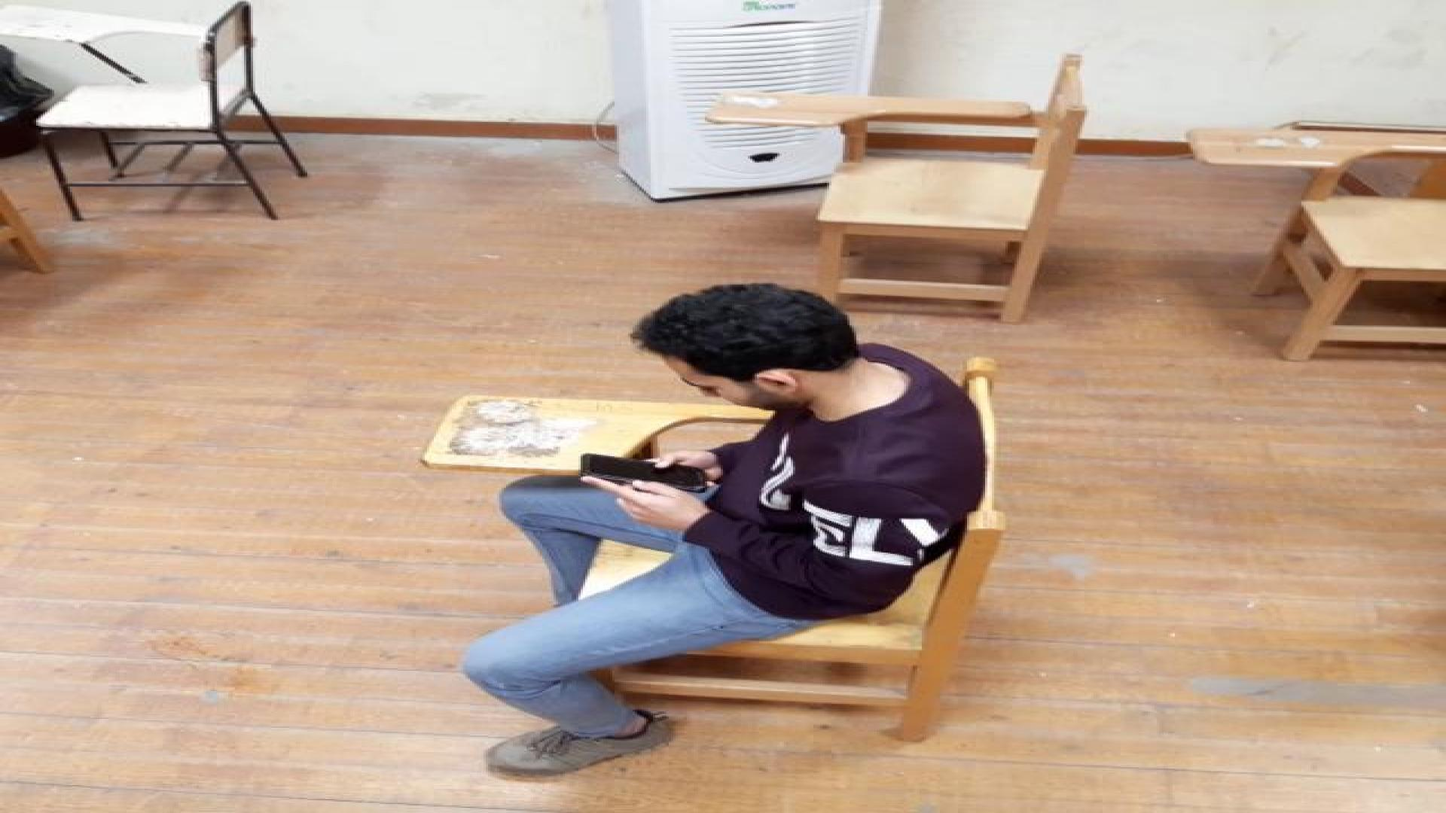phone: (573, 459, 713, 489)
